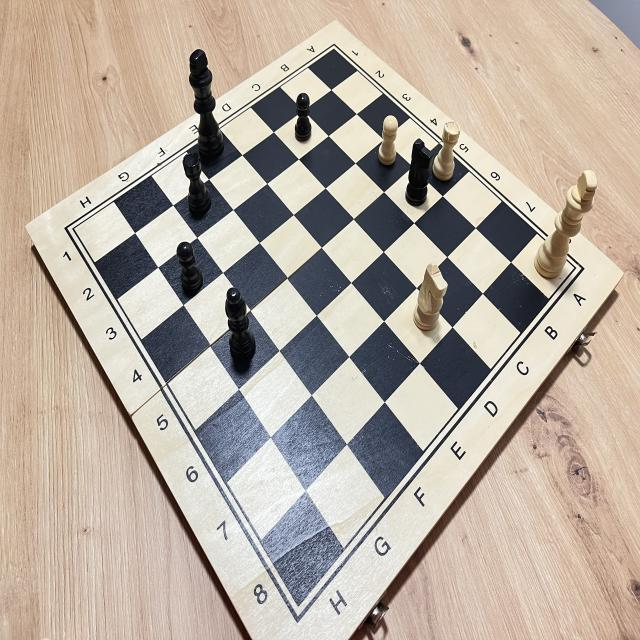black-bishop: (218, 281, 262, 374)
black-king: (180, 44, 228, 166)
black-knight: (398, 132, 439, 213)
black-pawn: (172, 237, 208, 300), (286, 85, 316, 150)
black-rook: (179, 150, 216, 222)
white-king: (530, 162, 603, 294)
white-knight: (411, 259, 453, 342)
white-pawn: (374, 110, 401, 170)
white-rook: (433, 116, 462, 184)
